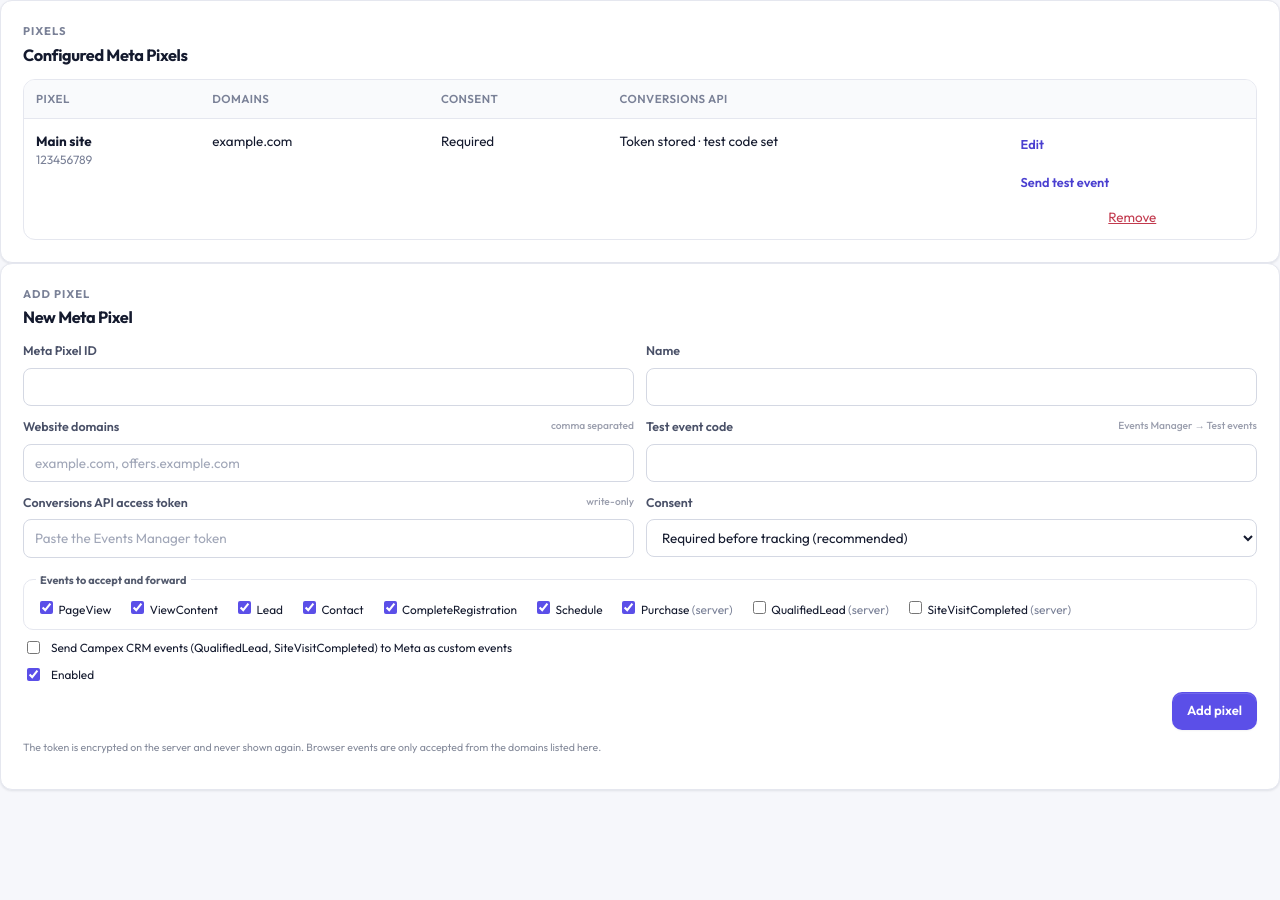
Pixel setup screen › sends a test event for a pixel with a test code
Click the button "Send test event": (1132, 182) [1021, 168, 1244, 196]
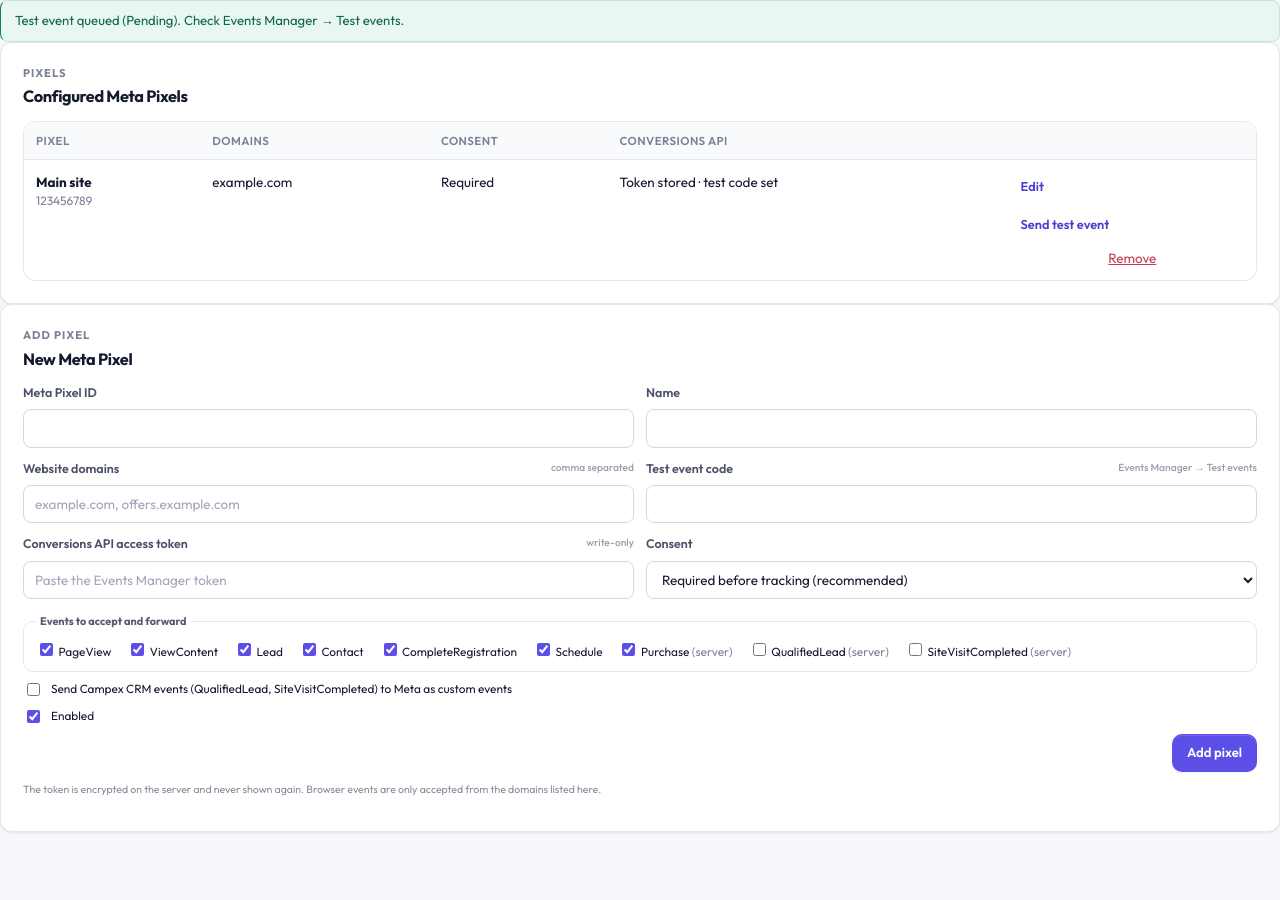
Check: the text "Test event queued (Pending). Check Events Manager → Test events." is shown, box [0, 0, 1279, 42]
